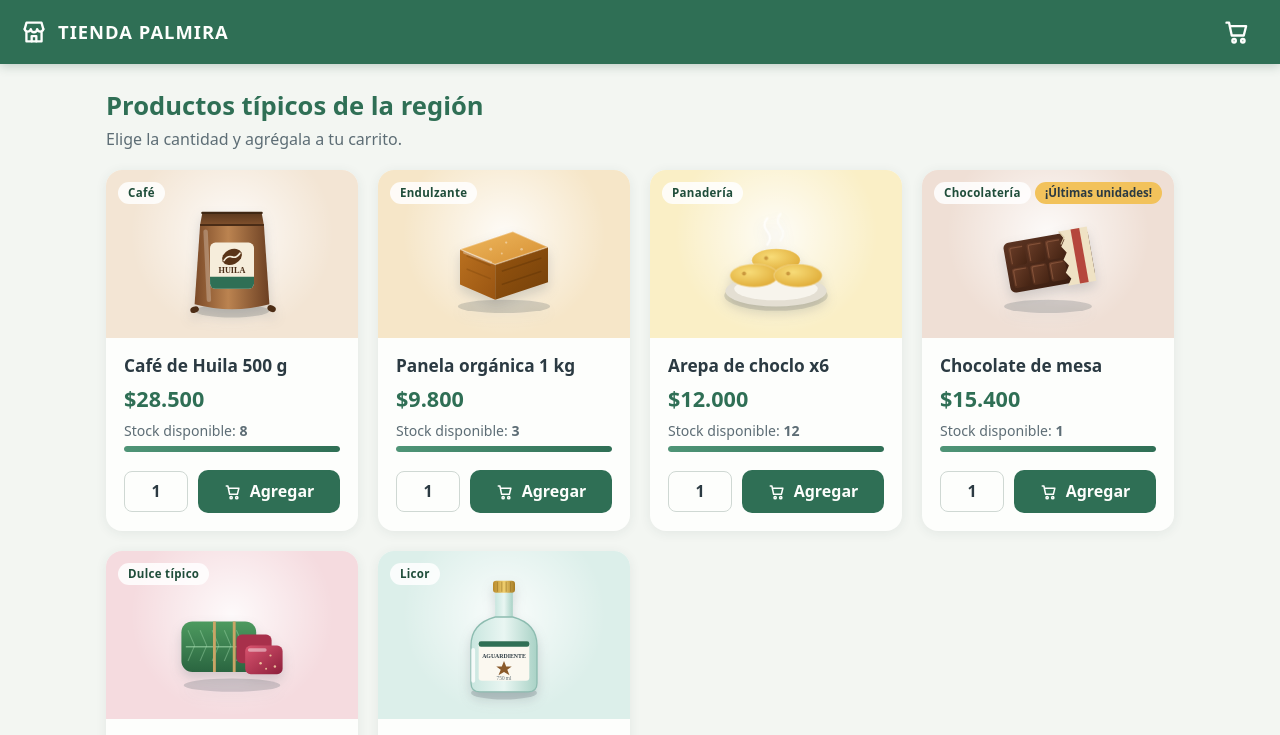
Test: Casos de prueba del instructor › 7. El botón + del carrito no supera el stock y muestra toast
The image size is (1280, 735).
Step 1. Replace the text in the number field named "Cantidad de Panela orgánica 1 kg" with "3" → {"x": 428, "y": 492}, box [396, 471, 460, 512]
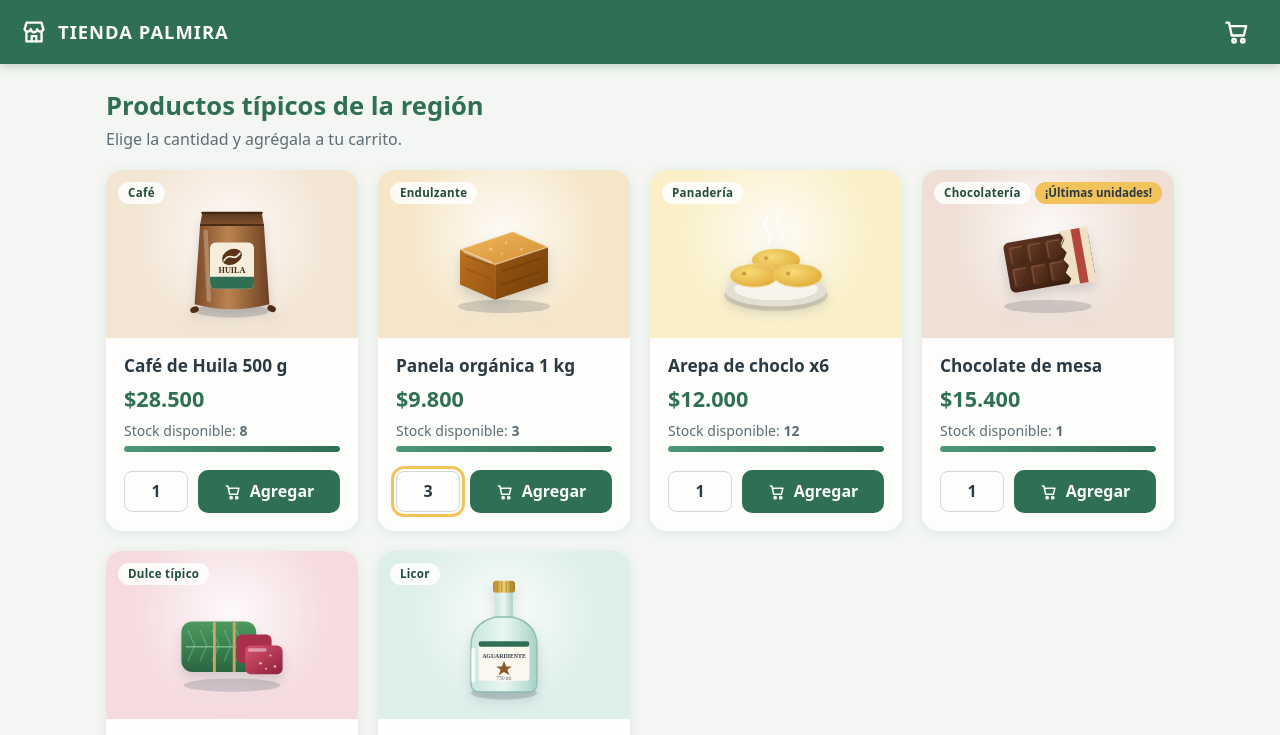
Step 2. Click the button "Agregar" below "$9.800" → {"x": 541, "y": 492}, box [470, 470, 612, 513]
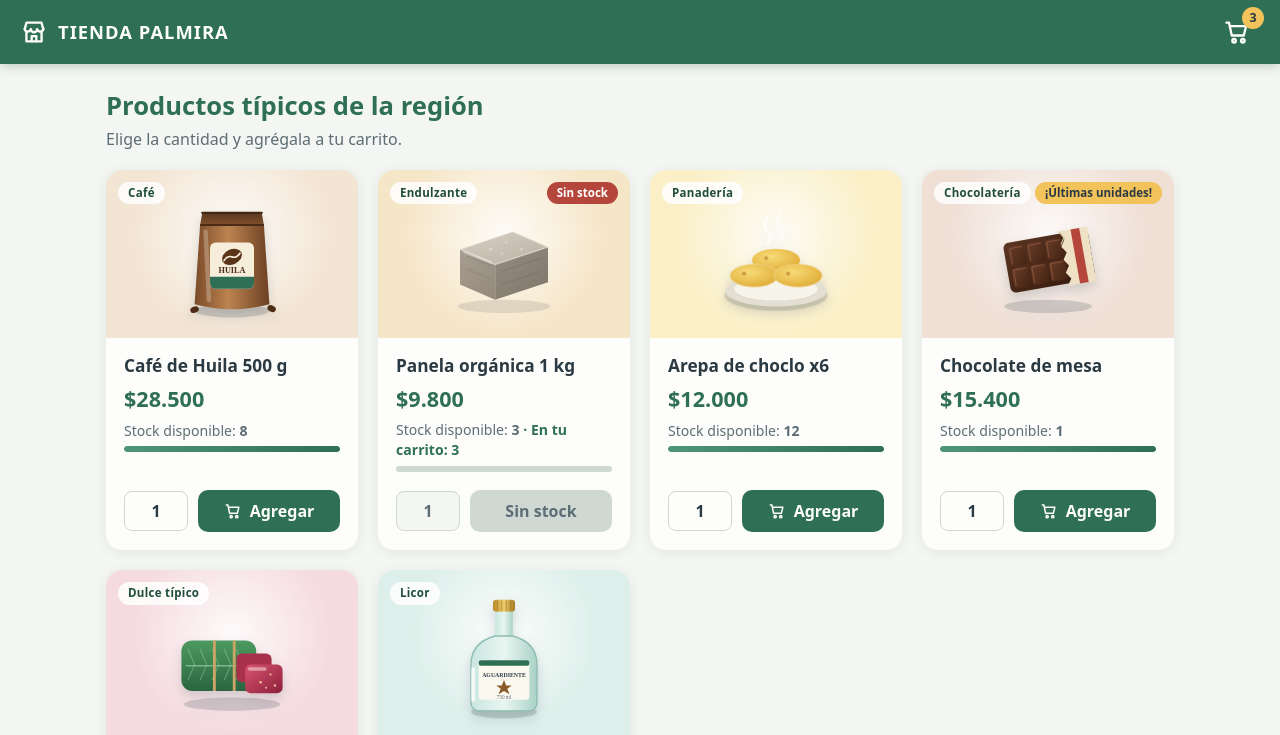
Step 3. Click the button named "Abrir carrito" → {"x": 1237, "y": 32}, box [1214, 9, 1260, 55]
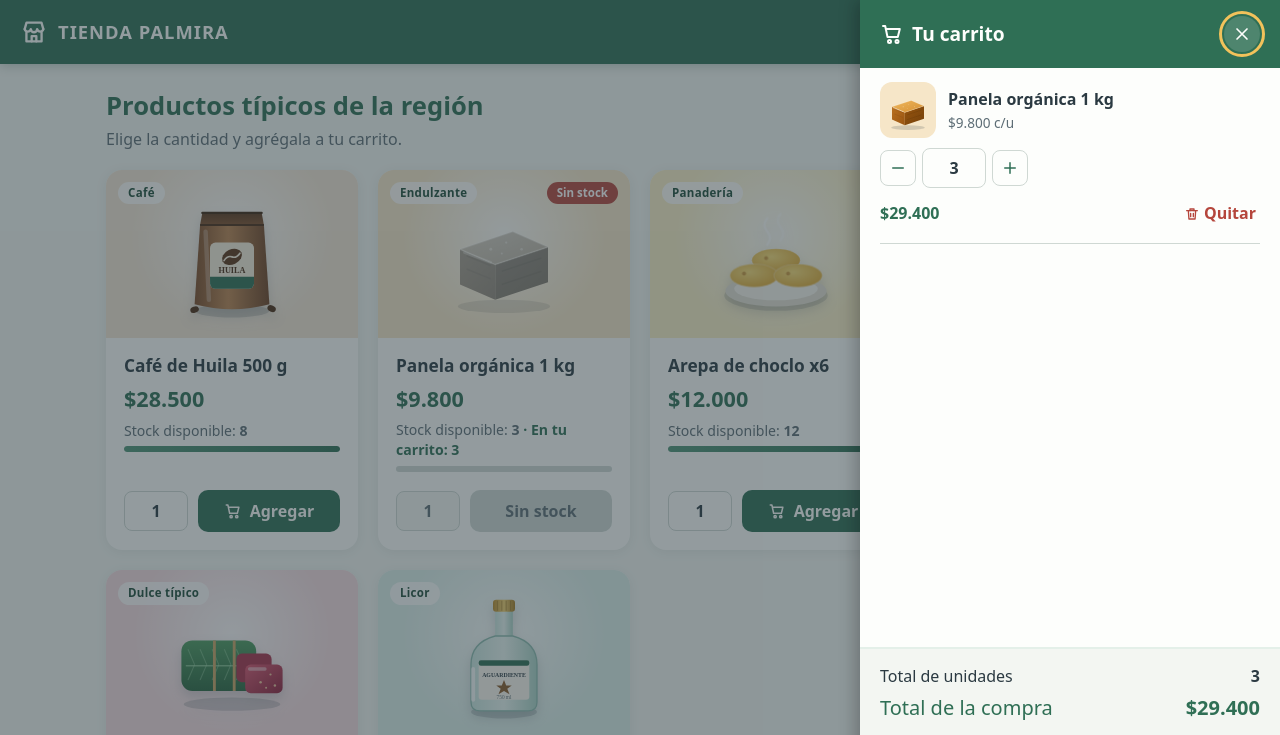
Step 4. Click the button named "Aumentar cantidad de Panela" → {"x": 1010, "y": 168}, box [992, 150, 1028, 186]
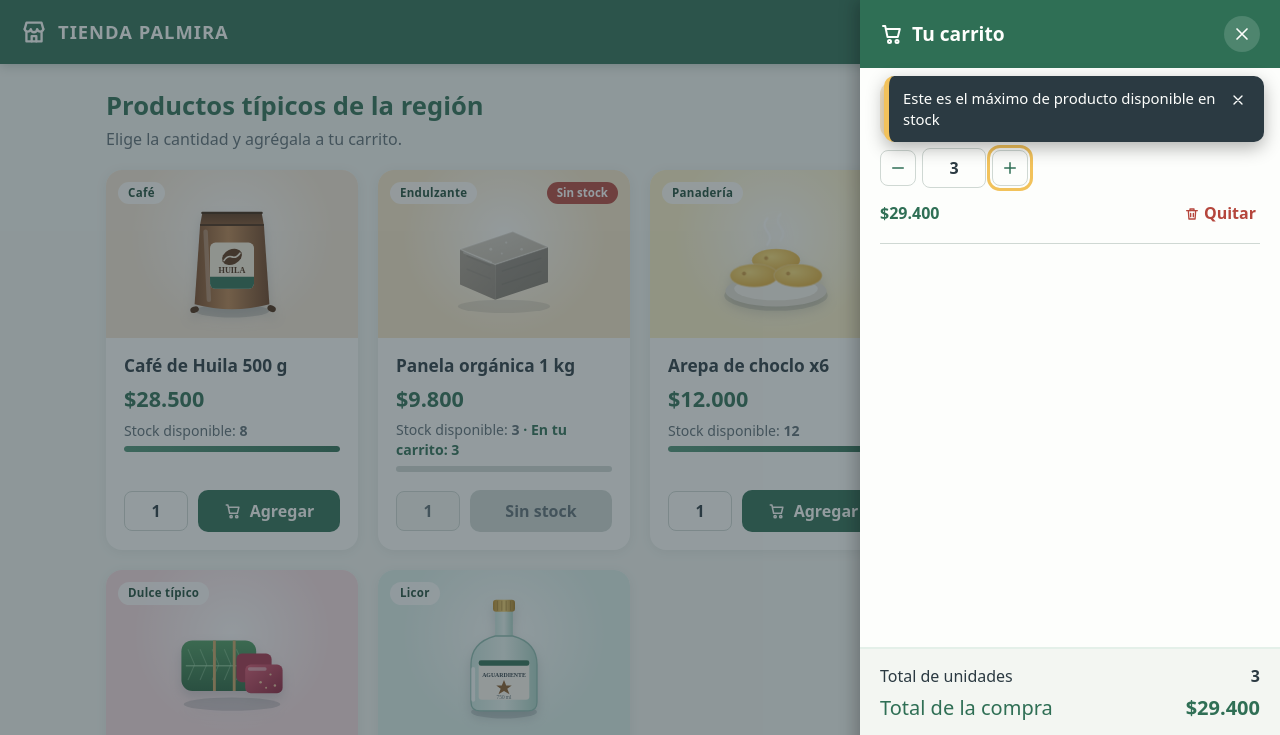
Result: the number field holds "3" at [922, 148, 986, 188]
Result: the text "Este es el máximo de producto disponible en stock" is shown at [903, 88, 1216, 130]
